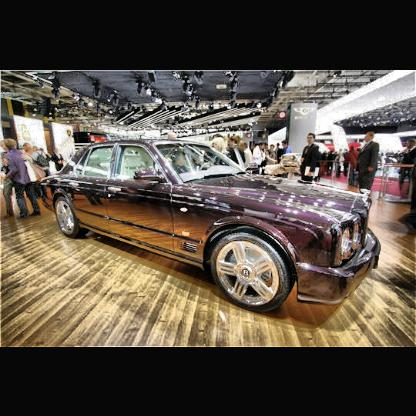Bentley Arnage Sedan 2009: (43, 140, 383, 312)
